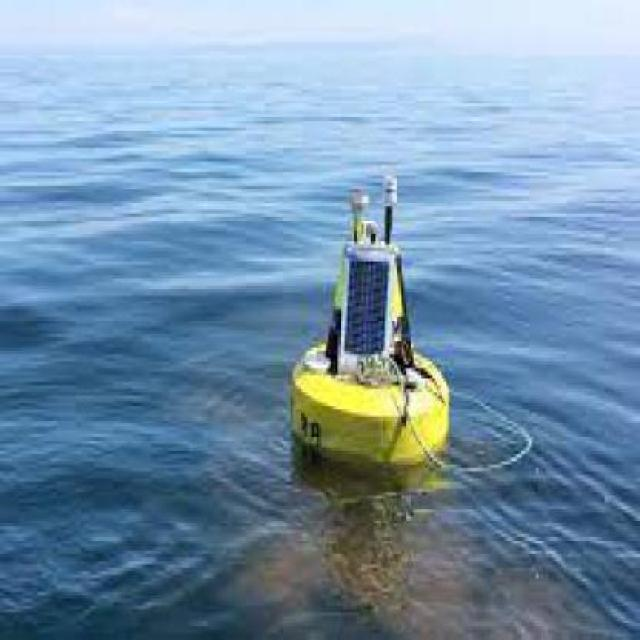buoy: (280, 163, 469, 483)
